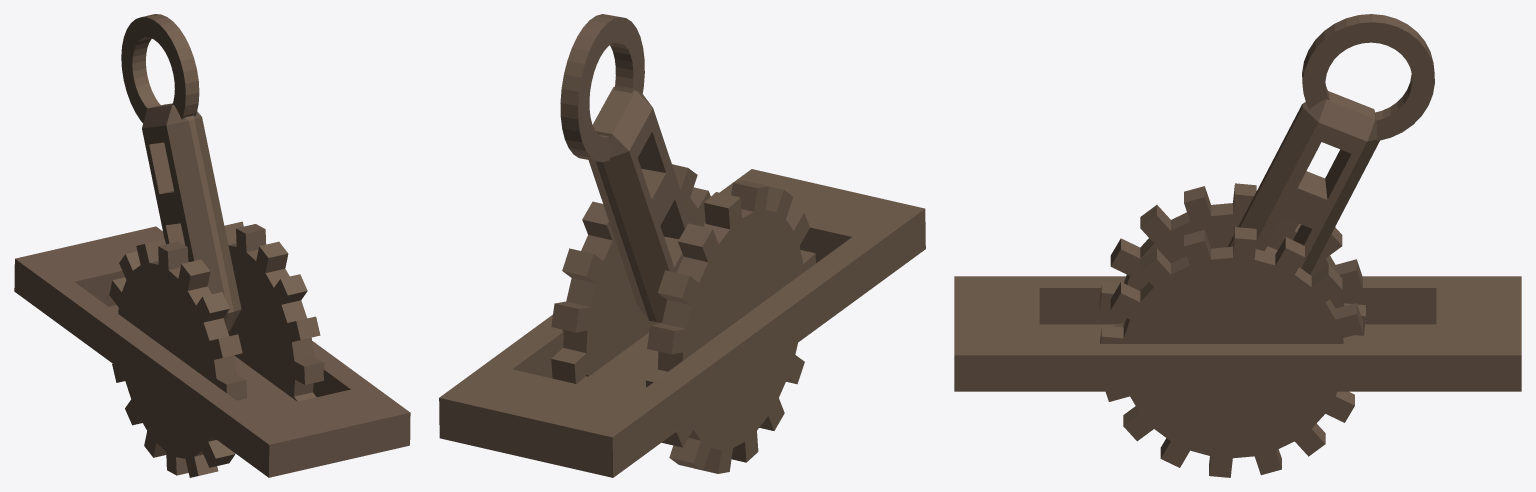
The model's file is Switch Model.fbx.
3 renders of one model, left to right at view 1: azimuth 30°, elevation 25°; view 2: azimuth 150°, elevation 25°; view 3: azimuth 270°, elevation 25°, orthographic. The views are drawn at different scales.
Parts seen in each view (by area): view 1: Base, Cog, Handle, Link; view 2: Base, Cog, Handle, Link; view 3: Base, Cog, Handle, Link.
Boxes of the visible parts, bbox=[...] form: Base: bbox=[14, 226, 410, 477]; Cog: bbox=[109, 221, 324, 477]; Handle: bbox=[142, 103, 241, 330]; Link: bbox=[121, 14, 199, 123]; Base: bbox=[439, 169, 925, 477]; Cog: bbox=[551, 164, 815, 473]; Handle: bbox=[588, 86, 691, 322]; Link: bbox=[560, 14, 644, 162]; Base: bbox=[954, 276, 1521, 391]; Cog: bbox=[1099, 183, 1365, 477]; Handle: bbox=[1228, 91, 1379, 274]; Link: bbox=[1302, 14, 1434, 140].
Bounding box in the file's own units: 18.33 × 48.58 × 57.
